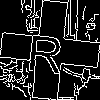R: (25, 25, 66, 74)
